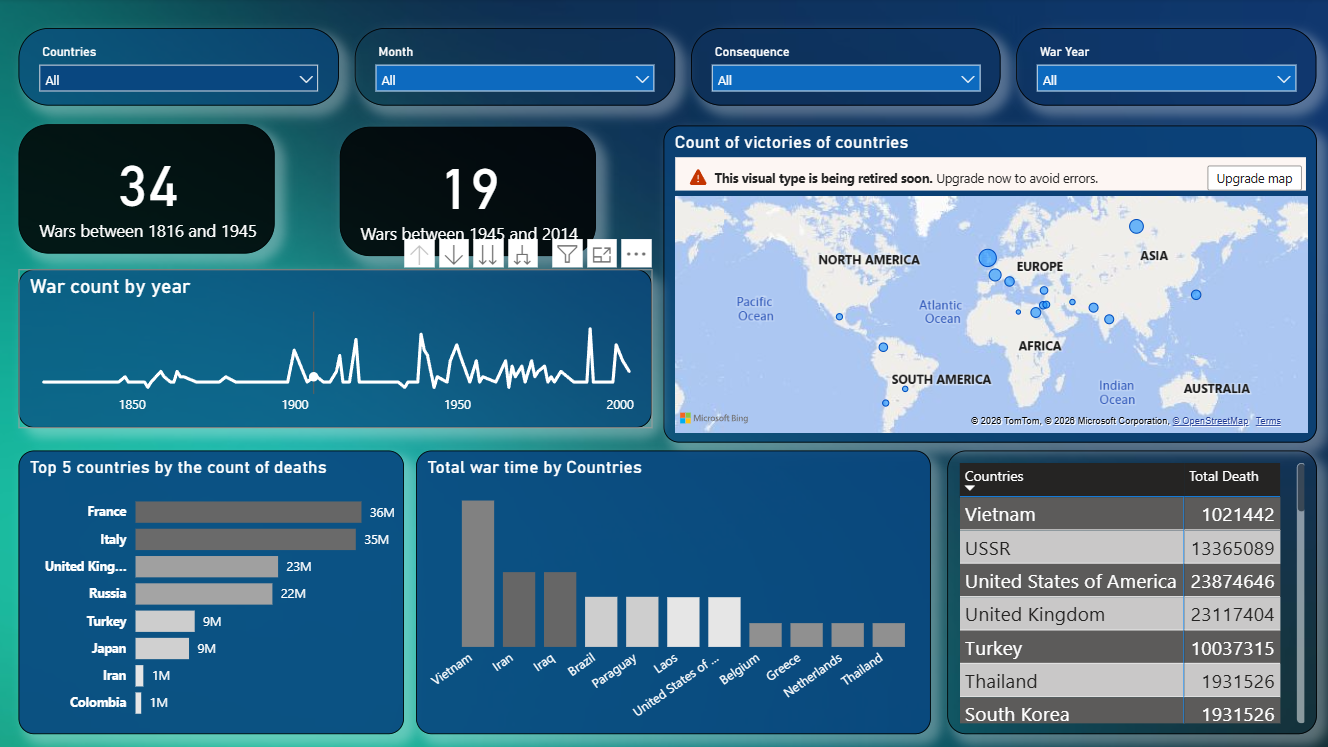

The dashboard page shown, as its layout file describes it:
{"tool":"powerbi","page":{"name":"Differencies","canvas":[1280,720],"ordinal":1},"visuals":[{"type":"map","title":"Count of victories of countries","fields":{"Category":["war_list_1816_2010.STATENAME"],"Size":["CountNonNull(territorial_changes_since_1816-1945.COUNTRY_GAINING)"]},"box":[640,122.6,626.6,304],"z":0},{"type":"slicer","fields":{"Values":["conquest_since_1816-1945.WAR_YEAR"]},"box":[977.6,29.3,288.3,74.6],"z":1000},{"type":"slicer","fields":{"Values":["war_list_1816_2010.StartDate.Variation.Date Hierarchy.Month"]},"box":[343.9,29.3,307.3,74.6],"z":2000},{"type":"slicer","fields":{"Values":["territorial_changes_since_1816-1945.CONSEQUENCE"]},"box":[665.9,29.3,297.1,74.6],"z":3000},{"type":"slicer","fields":{"Values":["war_list_1816_2010.STATENAME"]},"box":[22,29.3,307.3,74.6],"z":4000},{"type":"barChart","title":"Top 5 countries by the count of deaths","fields":{"Y":["Sum(war_list_1816_2010.TOTAL_BATTLE_DEATHS)"],"Category":["conquest_since_1816-1945.COUNTRY_GAINING"]},"box":[21.8,433.4,369.6,272.1],"z":5000},{"type":"columnChart","fields":{"Category":["war_list_1816_2010.STATENAME"],"Y":["Sum(war_list_1816_2010.TOTAL_WAR_TIME)"]},"box":[403.1,433.4,493.9,272.1],"z":6000},{"type":"card","title":"All-out war in 1816","fields":{"Values":["CountNonNull(conquest_since_1816-1945.WAR_YEAR)"]},"box":[22,121.5,245.9,124.4],"z":7000},{"type":"card","title":"All-out war in 1816","fields":{"Values":["CountNonNull(conquest_since_1816-1945.WAR_YEAR)"]},"box":[329.3,122.9,245.9,124.4],"z":8000},{"type":"pivotTable","fields":{"Rows":["war_list_1816_2010.STATENAME"],"Values":["Sum(war_list_1816_2010.TOTAL_BATTLE_DEATHS)"]},"box":[912.1,433.4,354.4,272.1],"z":9000},{"type":"lineChart","title":"War count by year","fields":{"Category":["war_list_1816_2010.StartDate.Variation.Date Hierarchy.Year","war_list_1816_2010.StartDate.Variation.Date Hierarchy.Quarter","war_list_1816_2010.StartDate.Variation.Date Hierarchy.Month","war_list_1816_2010.StartDate.Variation.Date Hierarchy.Day"],"Y":["CountNonNull(war_list_1816_2010.StartDate)"]},"box":[22,260.5,607.3,152.2],"z":10000}]}

Visuals, with their boxes in screenshot pixels (x1, y1, x2, y2), scaled from the page's 1280x720 canvas onto the 1328x747 screenshot:
"Count of victories of countries" map: (664,127,1314,443)
slicer - conquest_since_1816-1945.WAR_YEAR: (1014,30,1313,108)
slicer - war_list_1816_2010.StartDate.Variation.Date Hierarchy.Month: (357,30,676,108)
slicer - territorial_changes_since_1816-1945.CONSEQUENCE: (691,30,999,108)
slicer - war_list_1816_2010.STATENAME: (23,30,342,108)
"Top 5 countries by the count of deaths" barChart: (23,450,406,732)
columnChart - war_list_1816_2010.STATENAME x Sum(war_list_1816_2010.TOTAL_WAR_TIME): (418,450,931,732)
"All-out war in 1816" card: (23,126,278,255)
"All-out war in 1816" card: (342,128,597,257)
pivotTable - war_list_1816_2010.STATENAME x Sum(war_list_1816_2010.TOTAL_BATTLE_DEATHS): (946,450,1314,732)
"War count by year" lineChart: (23,270,653,428)
